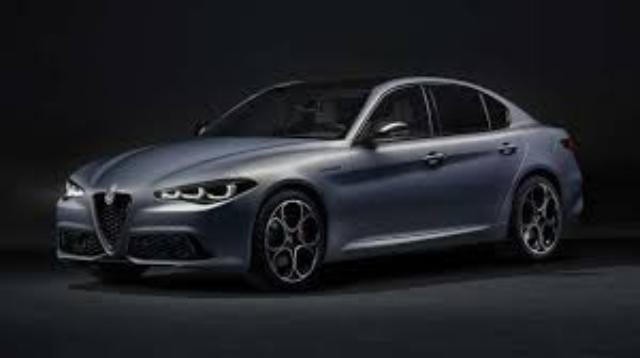alpha-romeo: (54, 73, 584, 290)
